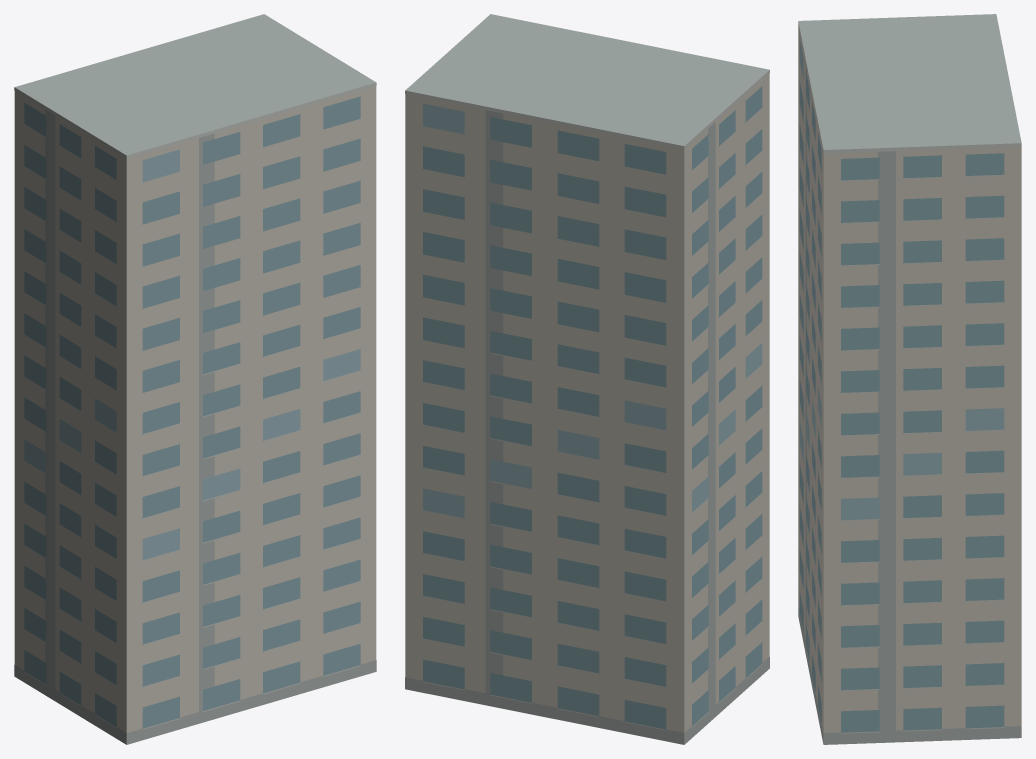
Rendered from residential-be87f193-da29-4e40-8563-d71f87a2e57d.glb.
The picture shows the model from 3 angles, left to right: view 1: azimuth 30°, elevation 25°; view 2: azimuth 150°, elevation 25°; view 3: azimuth 270°, elevation 25°; orthographic projection.
Visible parts, largest first — view 1: residential-be87f193-da29-4e40-8563-d71f87a2e57d.tmp; view 2: residential-be87f193-da29-4e40-8563-d71f87a2e57d.tmp; view 3: residential-be87f193-da29-4e40-8563-d71f87a2e57d.tmp.
Boxes of the visible parts, x1,y1,x2,y2 form: residential-be87f193-da29-4e40-8563-d71f87a2e57d.tmp: (14, 14, 376, 744); residential-be87f193-da29-4e40-8563-d71f87a2e57d.tmp: (405, 14, 769, 744); residential-be87f193-da29-4e40-8563-d71f87a2e57d.tmp: (798, 14, 1021, 744).
Bounding box in the file's own units: 20.13 × 41 × 13.97.
